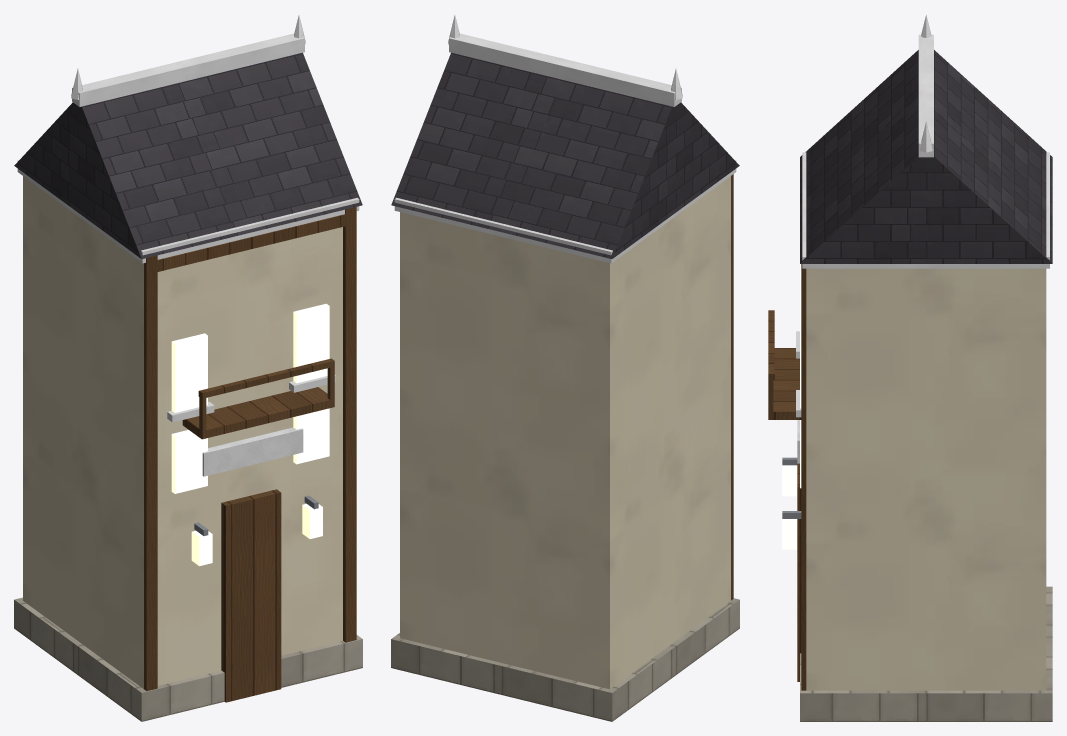
The model's file is category.other.t6.glb.
The picture shows the model from 3 angles, left to right: view 1: azimuth 30°, elevation 25°; view 2: azimuth 150°, elevation 25°; view 3: azimuth 270°, elevation 25°; orthographic projection.
Parts seen in each view (by area): view 1: building.category.other.t6; view 2: building.category.other.t6; view 3: building.category.other.t6.
Part boxes in pixels (x1,y1,x2,y2): building.category.other.t6: (14,15,362,721); building.category.other.t6: (391,15,739,721); building.category.other.t6: (768,15,1052,721).
Size of the model in its own units: 2.12 by 5.25 by 2.25.
Materials: 8 (7 with a texture image).
